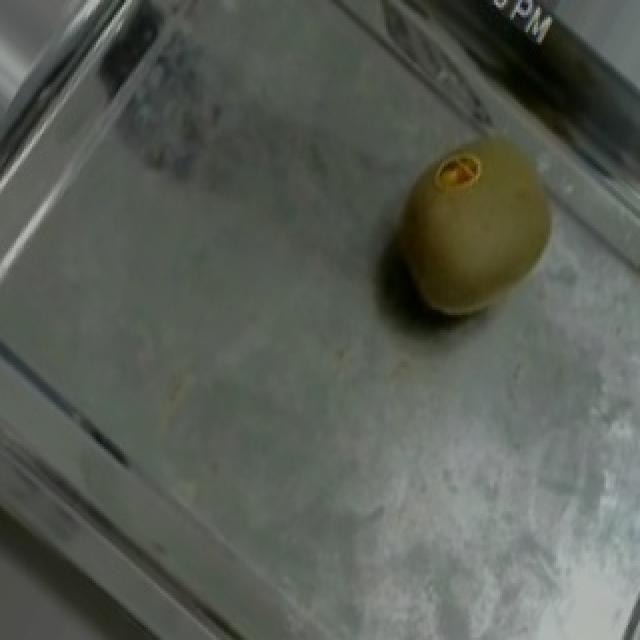Fruit: (344, 112, 594, 352)
